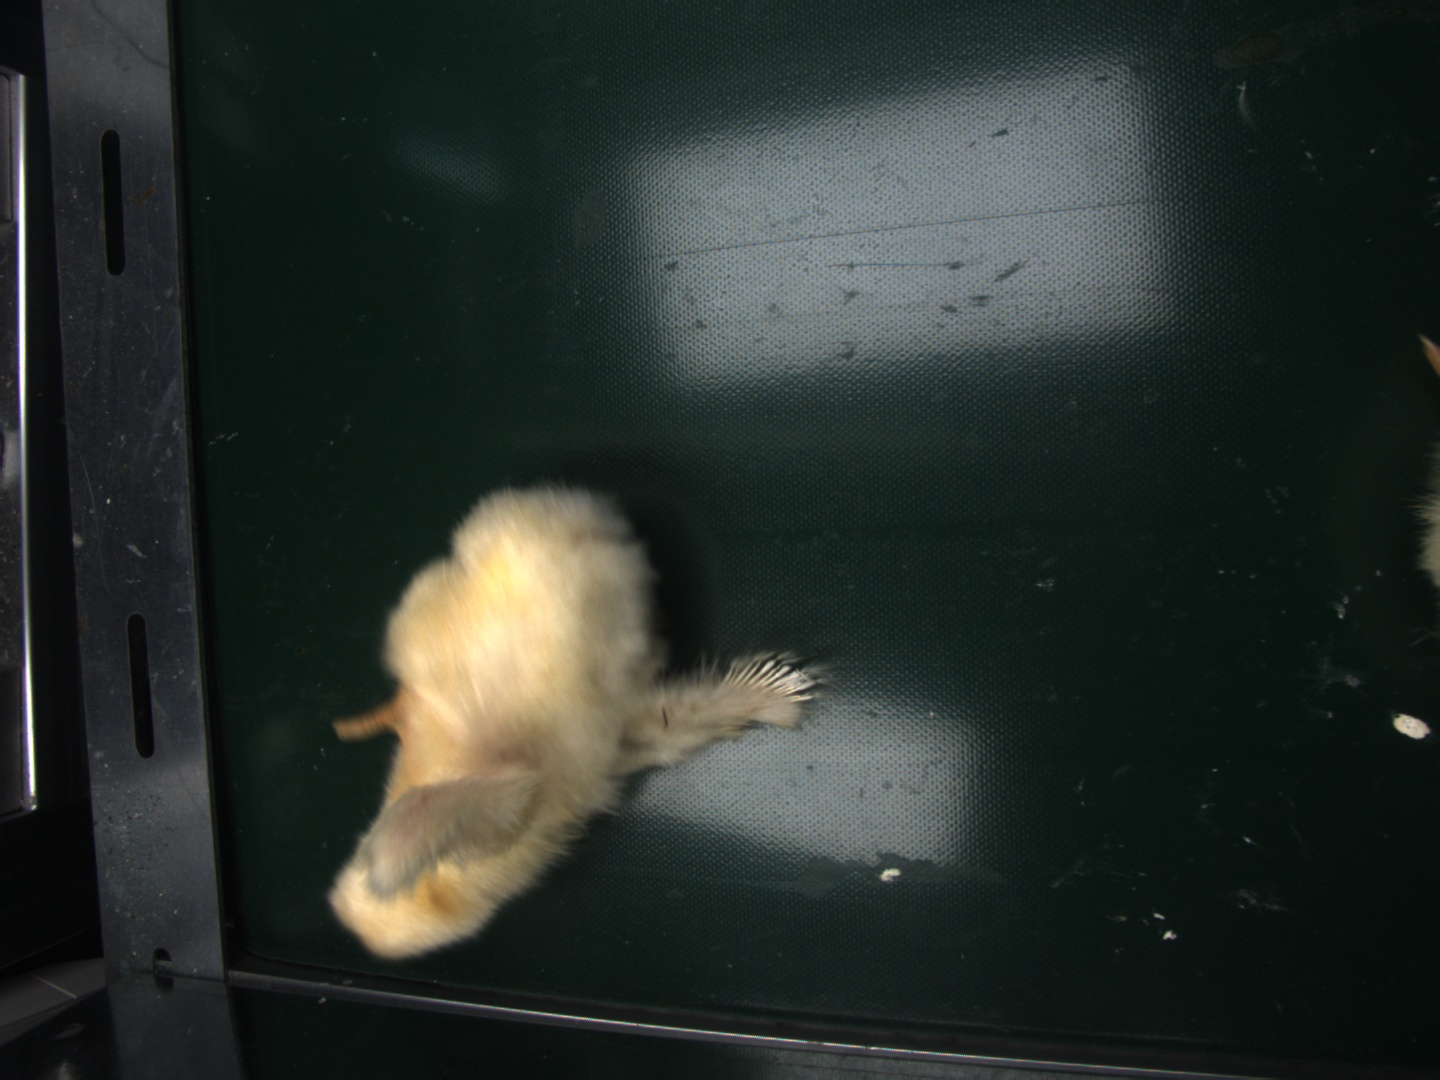male: (732, 661, 805, 706)
